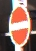No entry: (6, 6, 31, 46)
